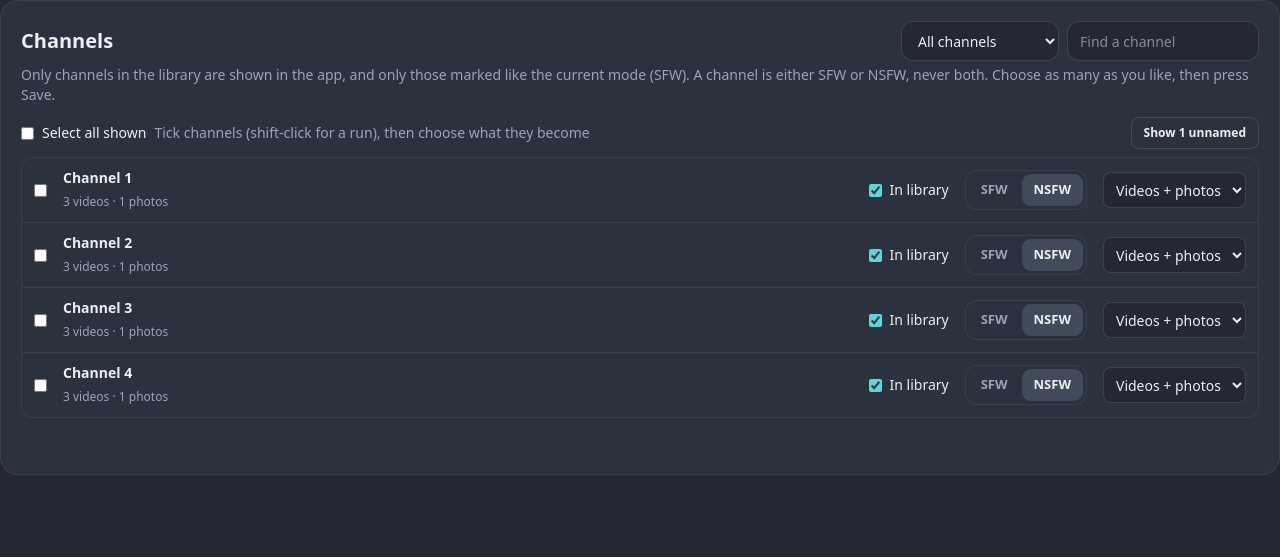
Test case: ChannelMarks › hides unnamed channels until asked, and selects a run with shift
The image size is (1280, 557).
Expected: the checkbox named "Select Channel 1" is shown, [34,184,47,196]
What coordinates should you click on to do the following:
click the button "Show 1 unnamed"
I would click on:
 (1195, 133)
Its box is [1130,117,1259,149].
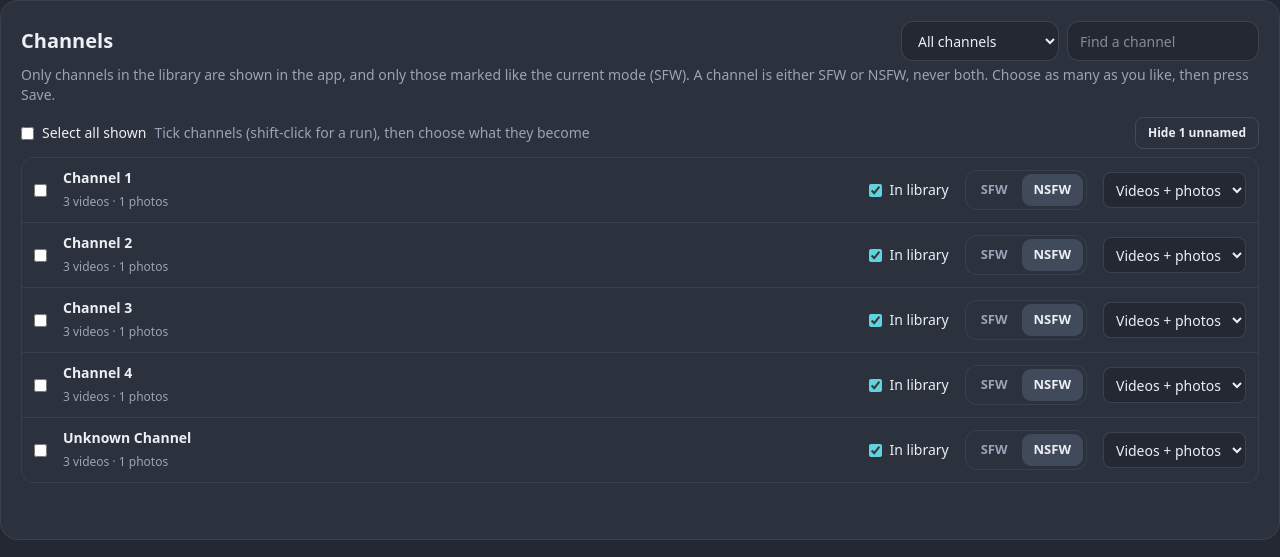
Expected: the checkbox named "Select Unknown Channel" is shown, [34,444,47,456]
What coordinates should you click on to do the following:
click the checkbox named "Select Channel 1"
I would click on:
 (40, 190)
Its box is [34,184,47,196].
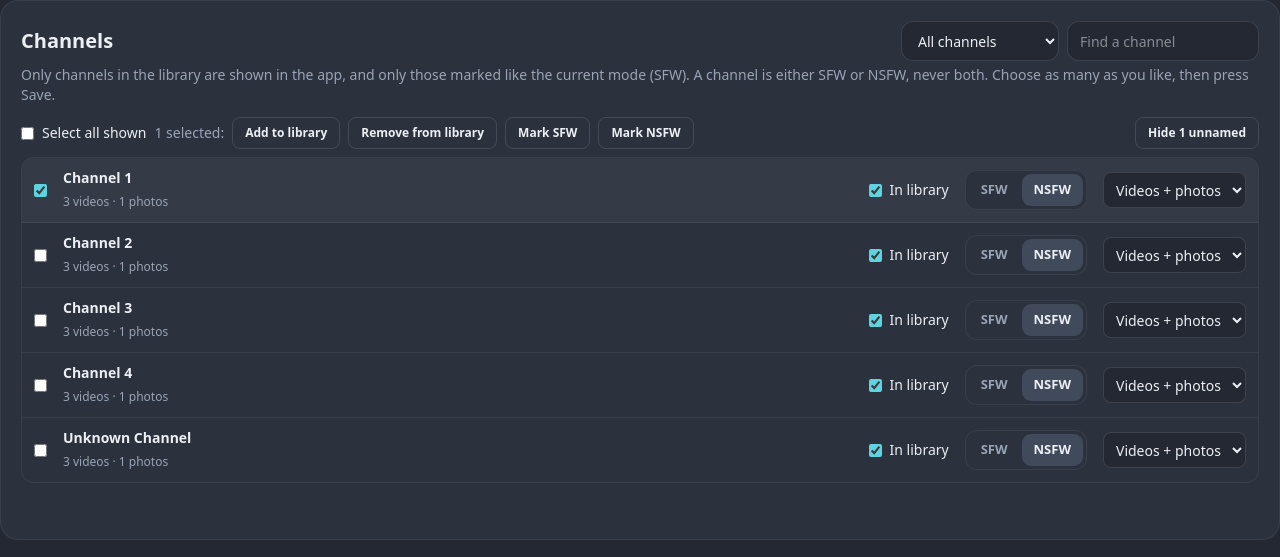
What coordinates should you click on to do the following:
click the checkbox named "Select Channel 3"
I would click on:
 (40, 320)
Its box is [34,314,47,326].
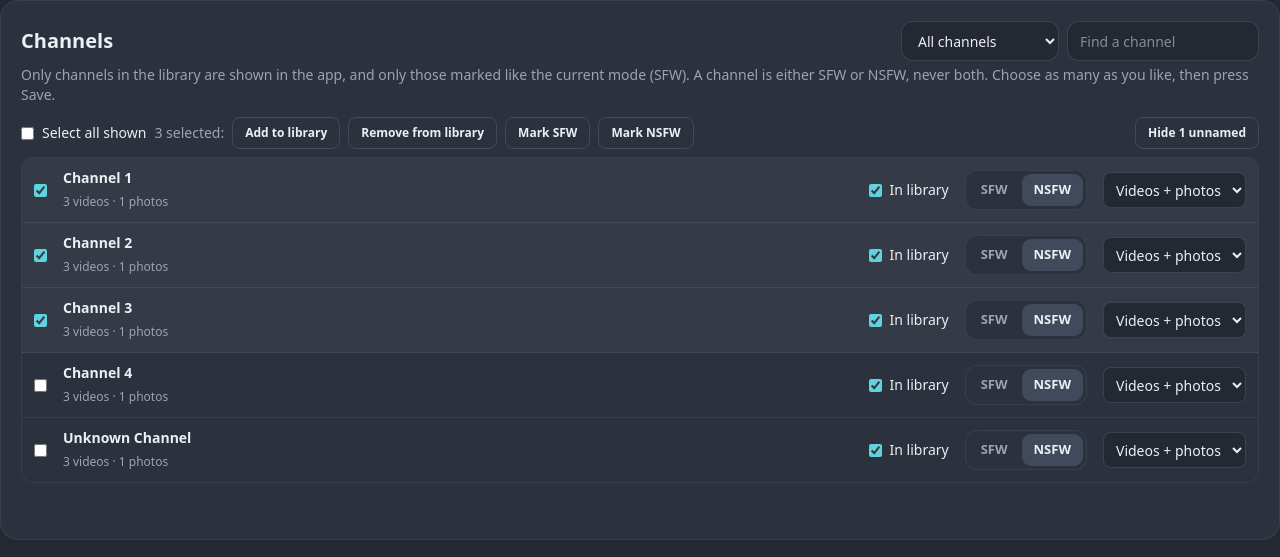
Expected: the text "3 selected:" is shown, [154,123,224,143]
